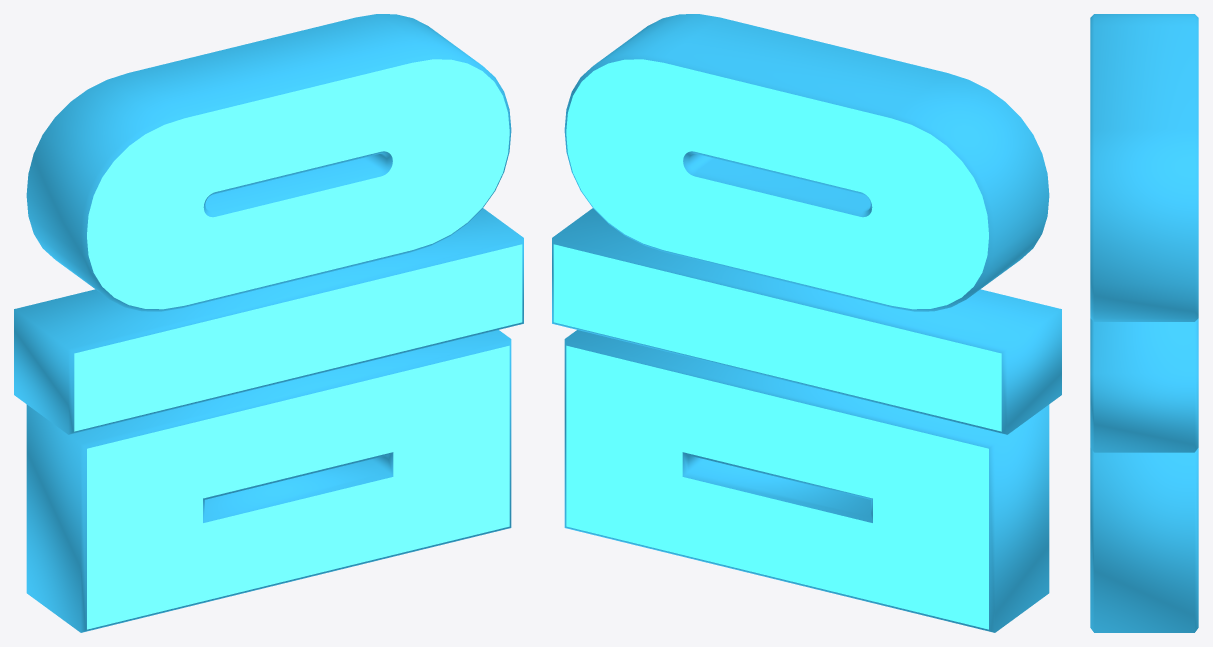
3 views of the same model, side by side, from view 1: azimuth 30°, elevation 25°; view 2: azimuth 150°, elevation 25°; view 3: azimuth 270°, elevation 25° (orthographic). The views are drawn at different scales.
Visible parts, largest first — view 1: glyph; view 2: glyph; view 3: glyph.
Boxes of the visible parts, <box> form: glyph: <box>14,14,523,632</box>; glyph: <box>552,14,1061,632</box>; glyph: <box>1090,14,1198,632</box>.
Size of the model in its own units: 0.0726 by 0.0755 by 0.0162.
